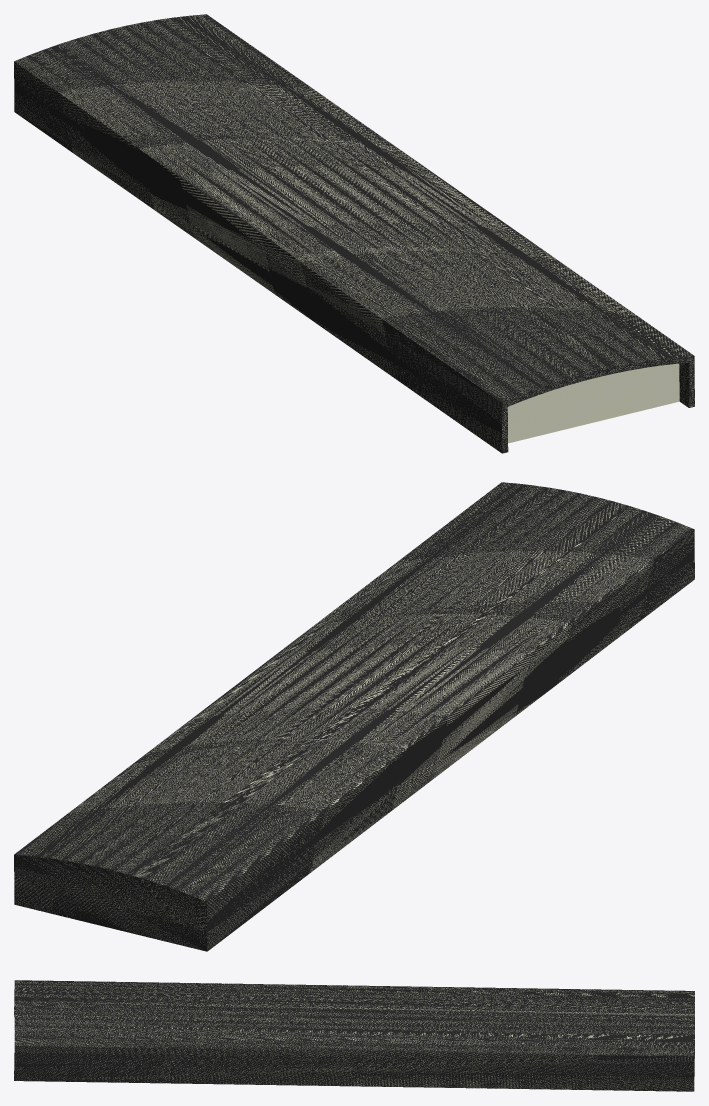
File: original-4.obj
The picture shows the model from 3 angles, top to bottom: view 1: azimuth 30°, elevation 25°; view 2: azimuth 150°, elevation 25°; view 3: azimuth 270°, elevation 25°; orthographic projection. The views are drawn at different scales.
Visible parts, largest first — view 1: Group4/mesh6/mesh6-geometry#mesh6-geometry; view 2: Group4/mesh6/mesh6-geometry#mesh6-geometry; view 3: Group4/mesh6/mesh6-geometry#mesh6-geometry.
Boxes of the visible parts, x1,y1,x2,y2 form: Group4/mesh6/mesh6-geometry#mesh6-geometry: (14, 14, 694, 453); Group4/mesh6/mesh6-geometry#mesh6-geometry: (14, 482, 694, 951); Group4/mesh6/mesh6-geometry#mesh6-geometry: (14, 980, 694, 1091).
Size of the model in its own units: 0.3863 by 0.1422 by 1.69.
